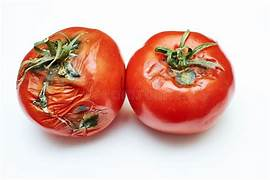tomatoes: (13, 16, 250, 146)
